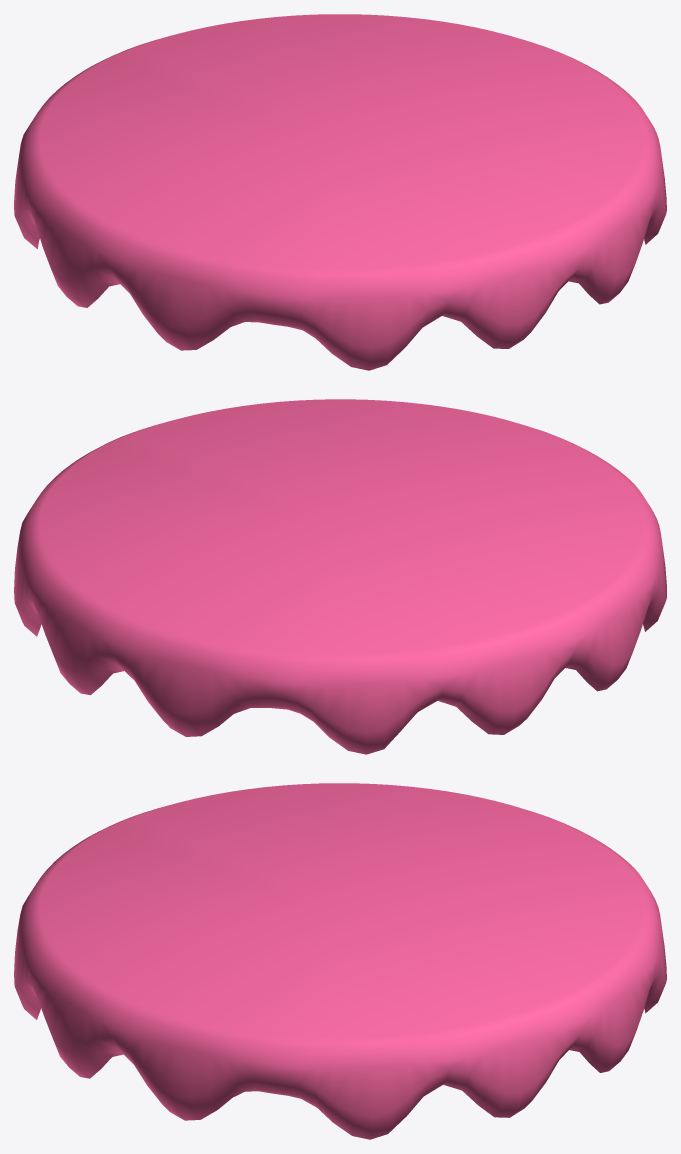
File: Cake_Med_itemsTop_icing-thick.FBX
The picture shows the model from 3 angles, top to bottom: view 1: azimuth 30°, elevation 25°; view 2: azimuth 150°, elevation 25°; view 3: azimuth 270°, elevation 25°; orthographic projection.
Parts seen in each view (by area): view 1: Cake_Med_itemsTop_icing-thick; view 2: Cake_Med_itemsTop_icing-thick; view 3: Cake_Med_itemsTop_icing-thick.
Boxes of the visible parts, box(x1,y1,x2,y2) form: Cake_Med_itemsTop_icing-thick: box(14, 14, 666, 370); Cake_Med_itemsTop_icing-thick: box(14, 399, 666, 754); Cake_Med_itemsTop_icing-thick: box(14, 783, 666, 1139).
Bounding box in the file's own units: 7918 × 1337 × 7905.
